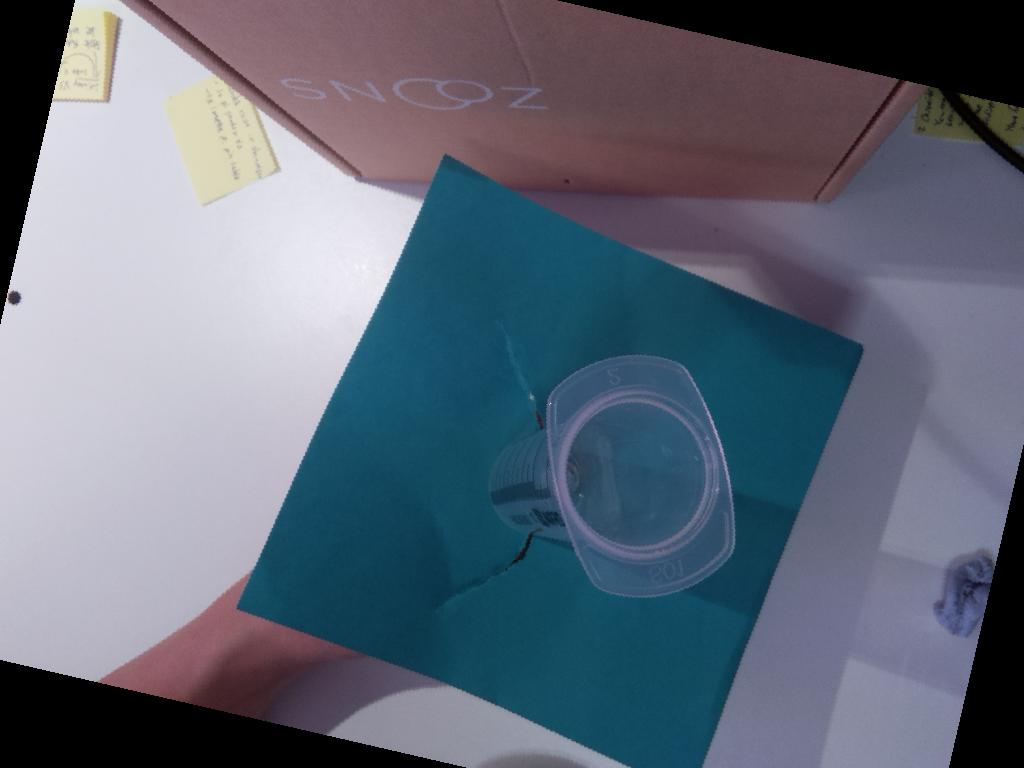clean: (540, 349, 747, 599)
